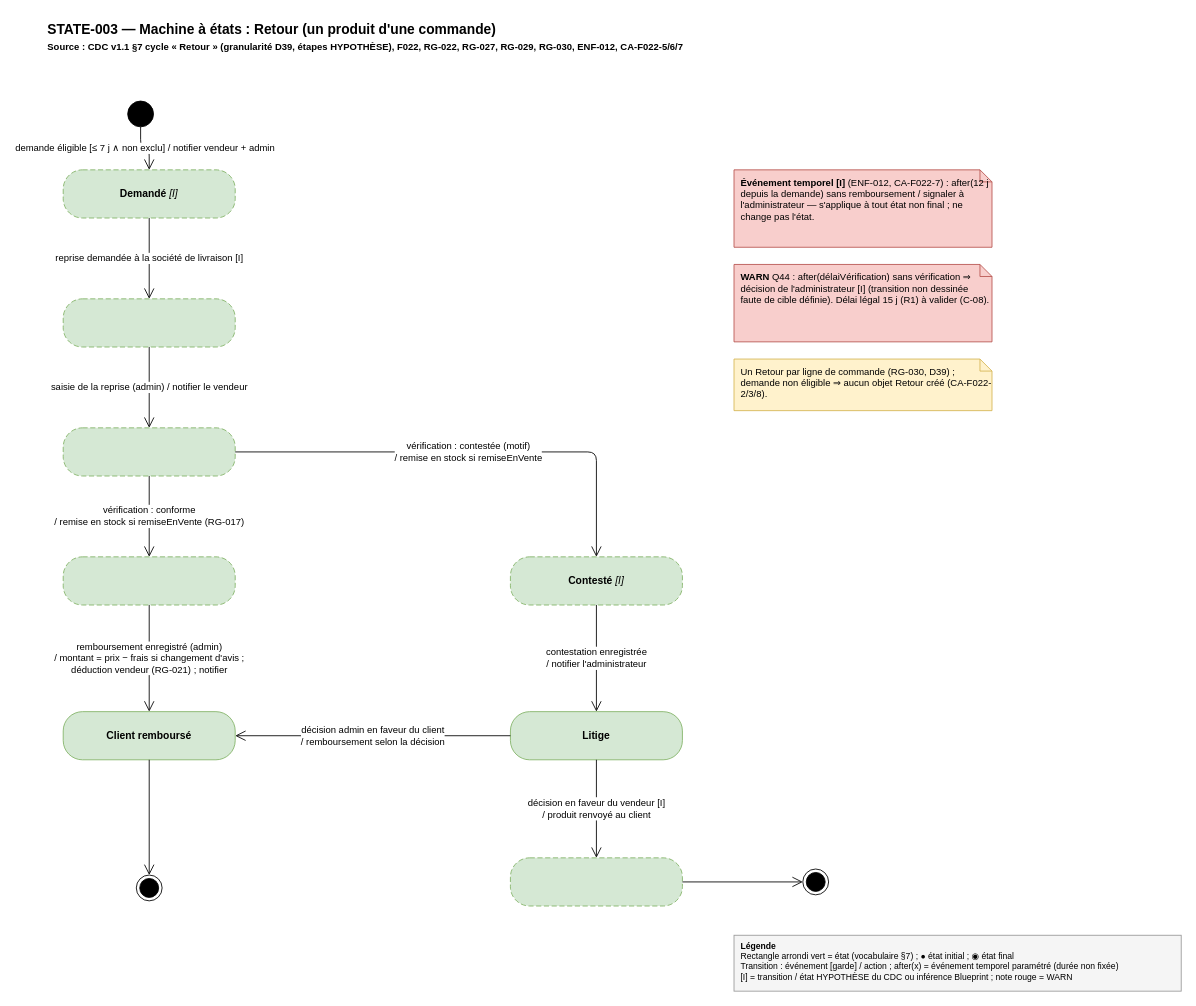
This 1196x1006 diagram has some shape labels left out. Here are the shapes that lost their labels. From the top down, the centre of each, then its label:
At (148,322): "En reprise [I]".
At (148,451): "Repris [I]".
At (148,580): "Vérifié par le vendeur [I]".
At (596,881): "Retour refusé [I]".
